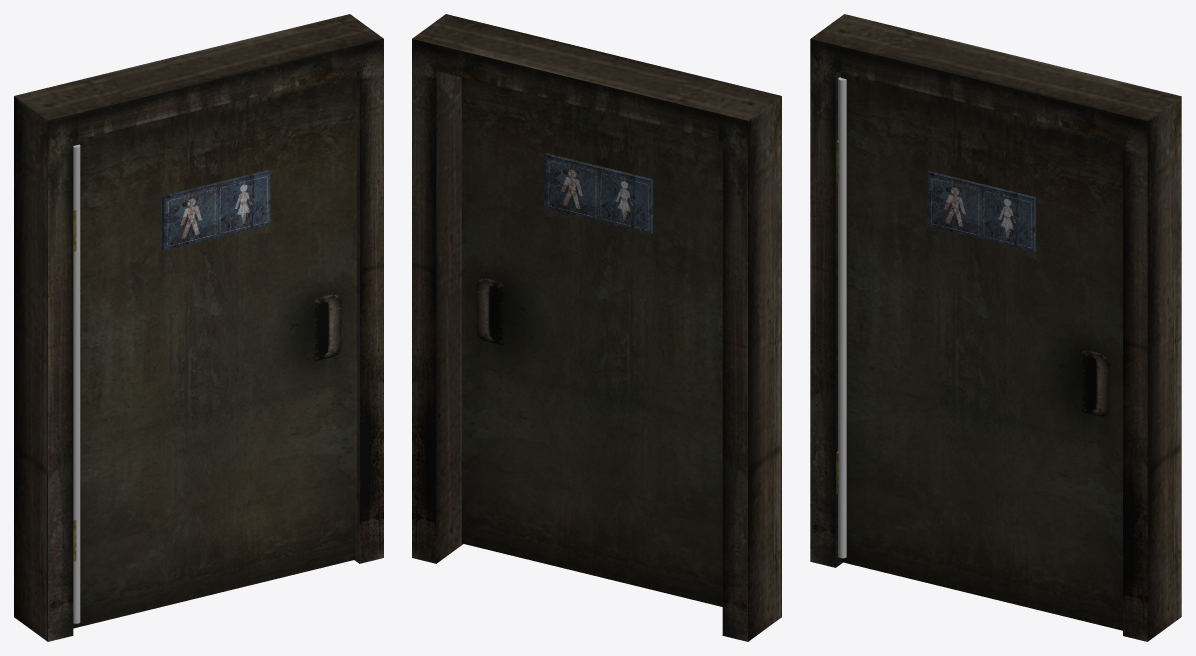
File: door_wc_invert.dae
The picture shows the model from 3 angles, left to right: view 1: azimuth 30°, elevation 25°; view 2: azimuth 150°, elevation 25°; view 3: azimuth 330°, elevation 25°; orthographic projection.
Parts seen in each view (by area): view 1: door, frame, _joint_hinge_door_null_120_0_nocollide_joint1; view 2: door, frame; view 3: door, frame, _joint_hinge_door_null_120_0_nocollide_joint1.
Part boxes in pixels (x1,y1,x2,y2): door: (73,72,356,628); frame: (14,14,383,641); _joint_hinge_door_null_120_0_nocollide_joint1: (73,144,80,623); door: (461,77,722,606); frame: (412,14,781,641); door: (840,73,1122,630); frame: (810,14,1181,641); _joint_hinge_door_null_120_0_nocollide_joint1: (838,77,846,558).
Size of what is drawn, in the model's own units: 1.5 by 2.22 by 0.2634.
